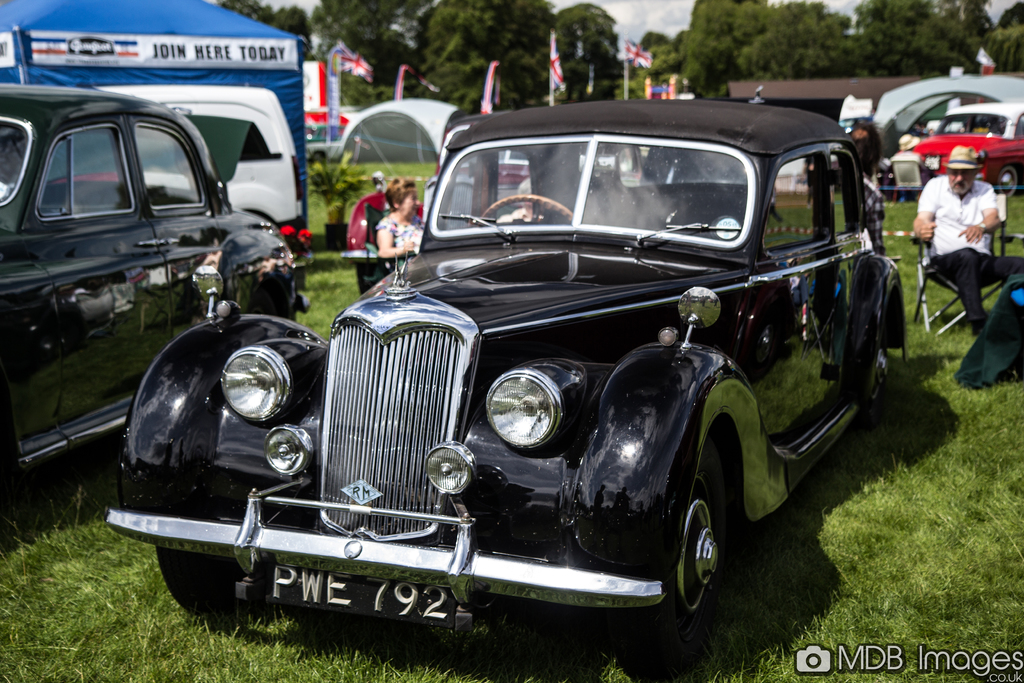Person: (913, 146, 1024, 337), (376, 176, 424, 257), (890, 136, 926, 182)
